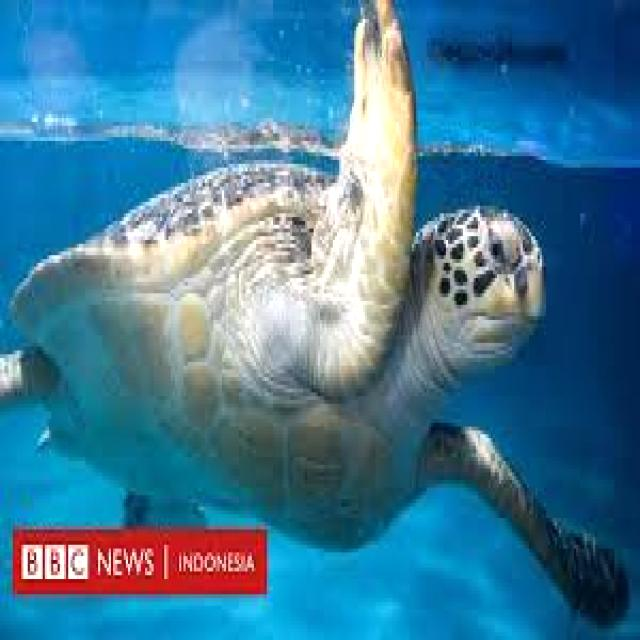Sea turtle: (0, 0, 635, 625)
